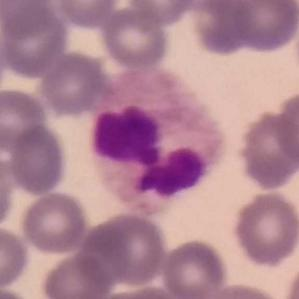Neutrophil: (85, 64, 234, 215)
RBC: (80, 210, 169, 288), (234, 107, 299, 192), (0, 1, 70, 79), (231, 188, 299, 268), (98, 3, 172, 70), (37, 49, 109, 117), (18, 189, 91, 256), (6, 121, 70, 196), (159, 237, 230, 299), (184, 0, 255, 59), (223, 0, 299, 55), (38, 251, 112, 299), (0, 86, 50, 152), (0, 0, 59, 38), (0, 224, 32, 290), (273, 88, 299, 169), (124, 0, 200, 27), (53, 0, 121, 28), (94, 283, 187, 299), (205, 281, 285, 299), (0, 145, 16, 231), (290, 1, 299, 84), (282, 257, 299, 299), (0, 284, 36, 299)
